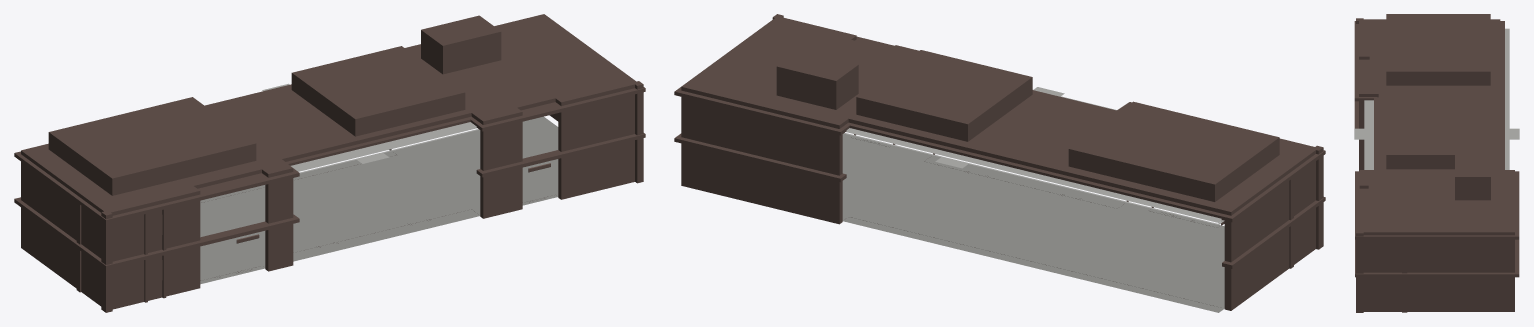
Rendered from ind-warehouse-4.access-v9.lod2.glb.
3 renders of one model, left to right at view 1: azimuth 30°, elevation 25°; view 2: azimuth 150°, elevation 25°; view 3: azimuth 270°, elevation 25°, orthographic. The views are drawn at different scales.
Visible parts, largest first — view 1: Industrial_Warehouse_4_Industrial_Facade_Flr_1_0; view 2: Industrial_Warehouse_4_Industrial_Facade_Flr_1_0; view 3: Industrial_Warehouse_4_Industrial_Facade_Flr_1_0.
Part boxes in pixels (bbox=[...]): Industrial_Warehouse_4_Industrial_Facade_Flr_1_0: bbox=[14, 14, 645, 312]; Industrial_Warehouse_4_Industrial_Facade_Flr_1_0: bbox=[674, 14, 1325, 312]; Industrial_Warehouse_4_Industrial_Facade_Flr_1_0: bbox=[1354, 14, 1519, 312].
Size of the model in its own units: 42.08 by 9.38 by 13.6.
